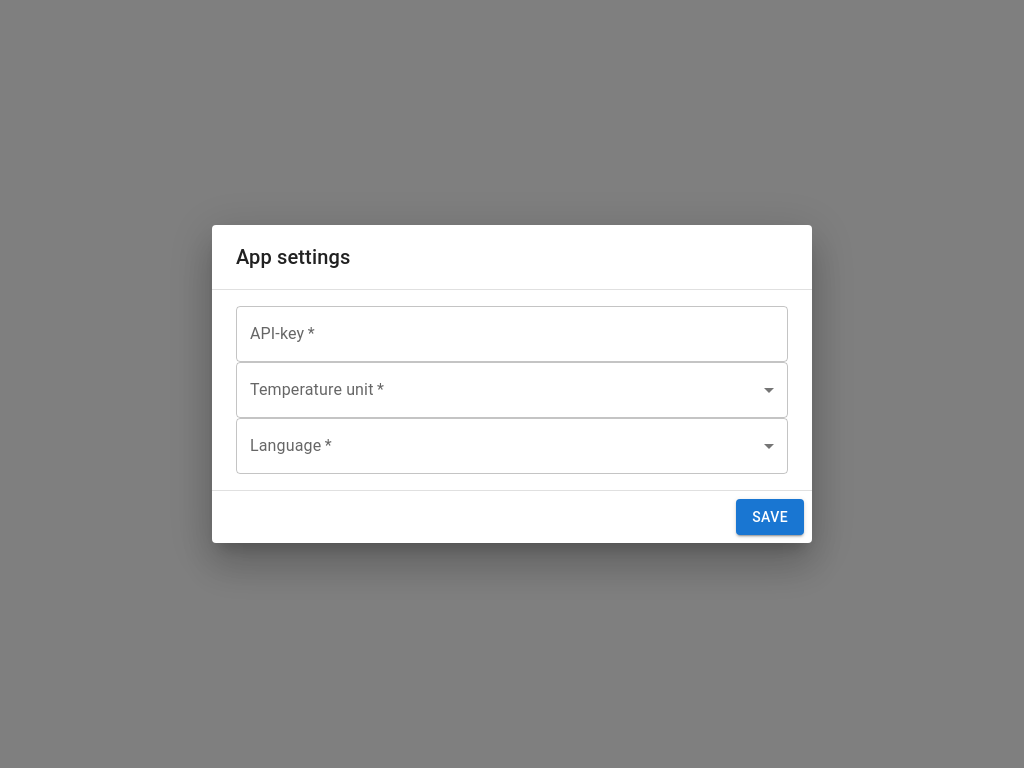
Test case: AppSettingsDialog › should display the validation errors if the fields are not filled in
Click the submit button. click: (770, 517)
box: [736,499,804,535]
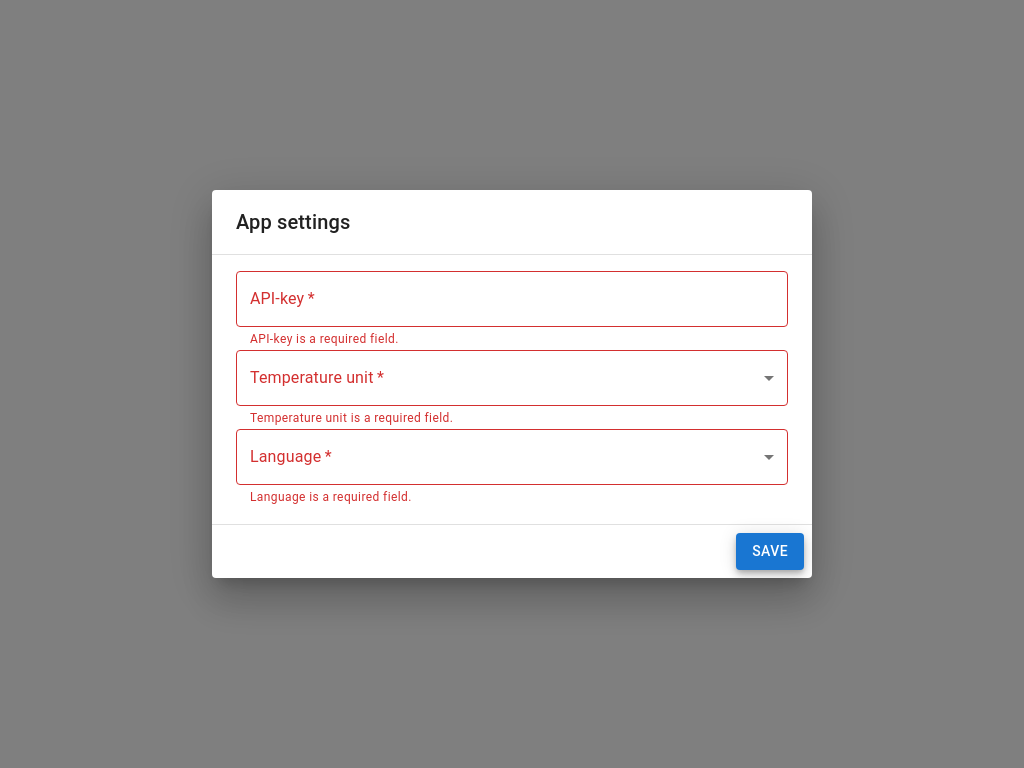
expect the text "API-key is a required field." is shown: met, box [250,332,399,346]
expect the text "Temperature unit is a required field." is shown: met, box [250,411,453,425]
expect the text "Language is a required field." is shown: met, box [250,490,412,504]
